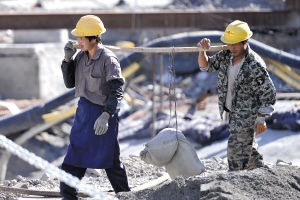yellow: (71, 15, 106, 51), (220, 20, 251, 55)
